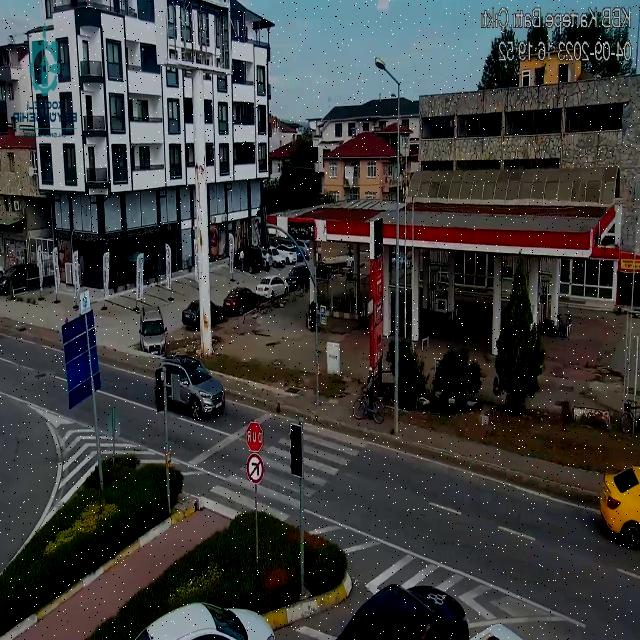Car: (154, 356, 225, 421), (138, 305, 168, 358), (182, 299, 226, 330), (224, 288, 259, 315), (256, 275, 290, 300), (1, 265, 30, 293), (285, 265, 310, 289)
